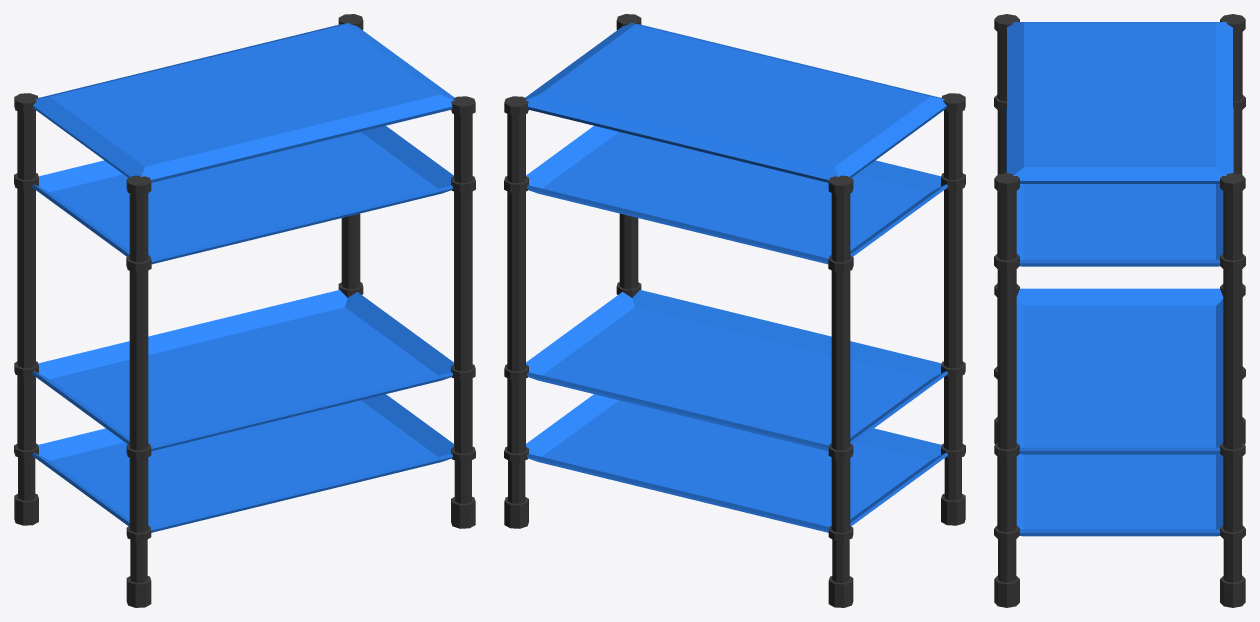
Rendered from Container.glb.
3 views of the same model, side by side, from view 1: azimuth 30°, elevation 25°; view 2: azimuth 150°, elevation 25°; view 3: azimuth 270°, elevation 25° (orthographic).
Parts seen in each view (by area): view 1: Plane_Plane.002; view 2: Plane_Plane.002; view 3: Plane_Plane.002.
Boxes of the visible parts, x1,y1,x2,y2 form: Plane_Plane.002: (14,14,475,607); Plane_Plane.002: (504,14,965,607); Plane_Plane.002: (994,14,1245,607).
Size of the model in its own units: 5.35 by 6.28 by 3.35.
